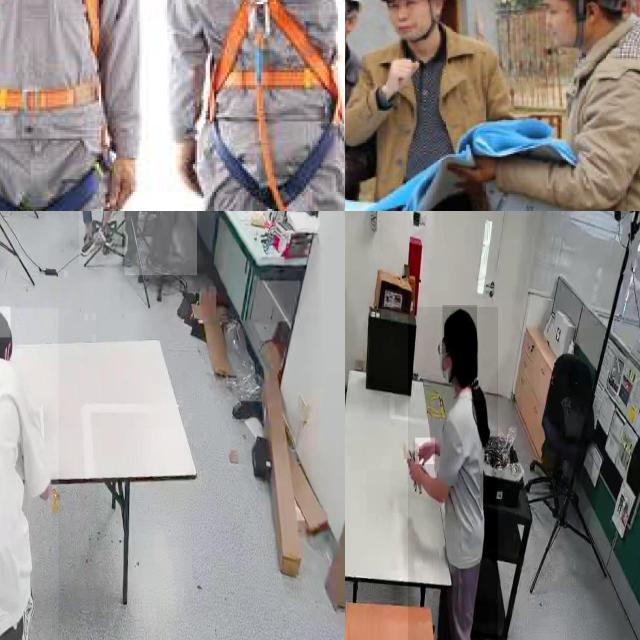Harness: (195, 0, 345, 211), (0, 0, 113, 211)
No_Ear-Protection: (585, 2, 599, 26), (432, 0, 445, 22), (345, 17, 359, 31)
No_Glasses: (388, 0, 420, 10)
face_nomask: (390, 7, 432, 41)
hand_noglove: (406, 452, 426, 487), (415, 438, 435, 465)
head_nohelmet: (442, 305, 478, 343), (0, 306, 11, 338)
person: (407, 307, 498, 640), (0, 308, 59, 640), (124, 211, 197, 276), (79, 211, 122, 264)
